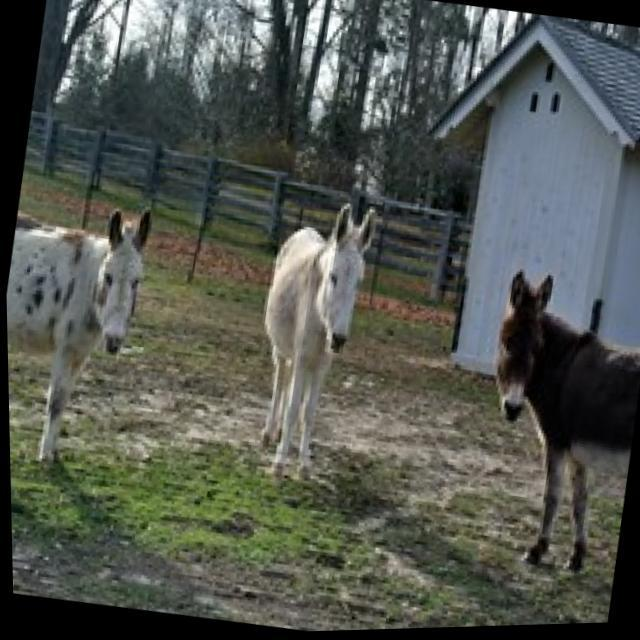Donkey: (458, 264, 640, 588), (3, 188, 156, 477), (235, 192, 382, 489)
